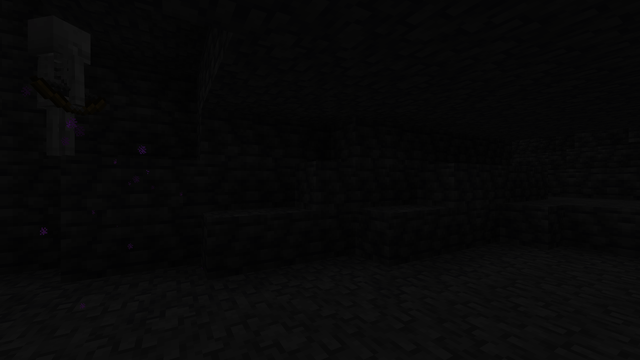squelettes: (23, 10, 90, 156)
